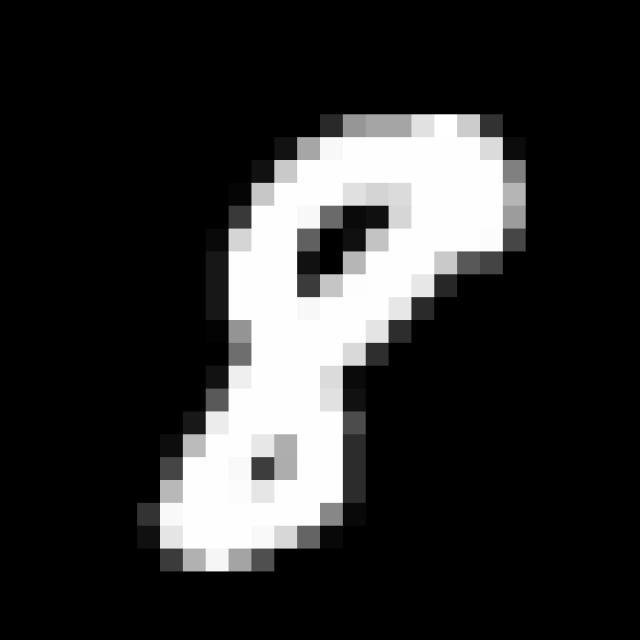eight -8-: (146, 108, 536, 580)
